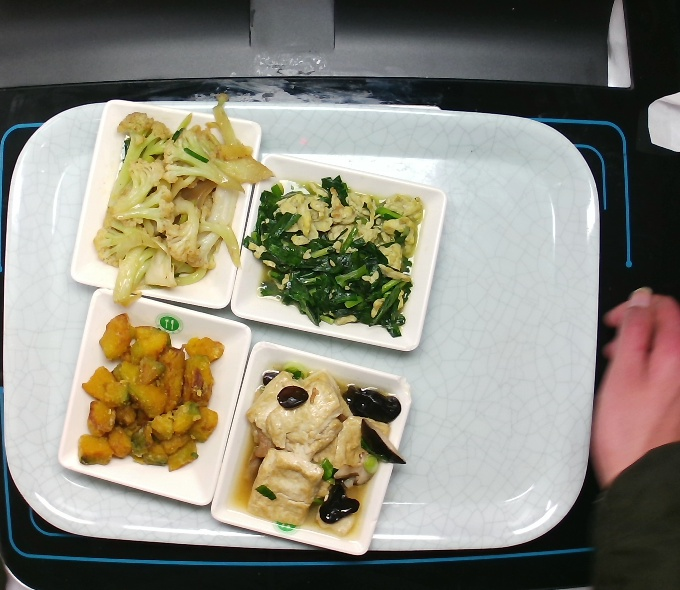wcq-DanHuangNanGua: (62, 306, 225, 489)
wcq-JiaChangDouFu: (233, 365, 408, 538)
wcq-JiuCaiJiDan: (247, 170, 433, 334)
wcq-QiuCai: (97, 106, 277, 312)
